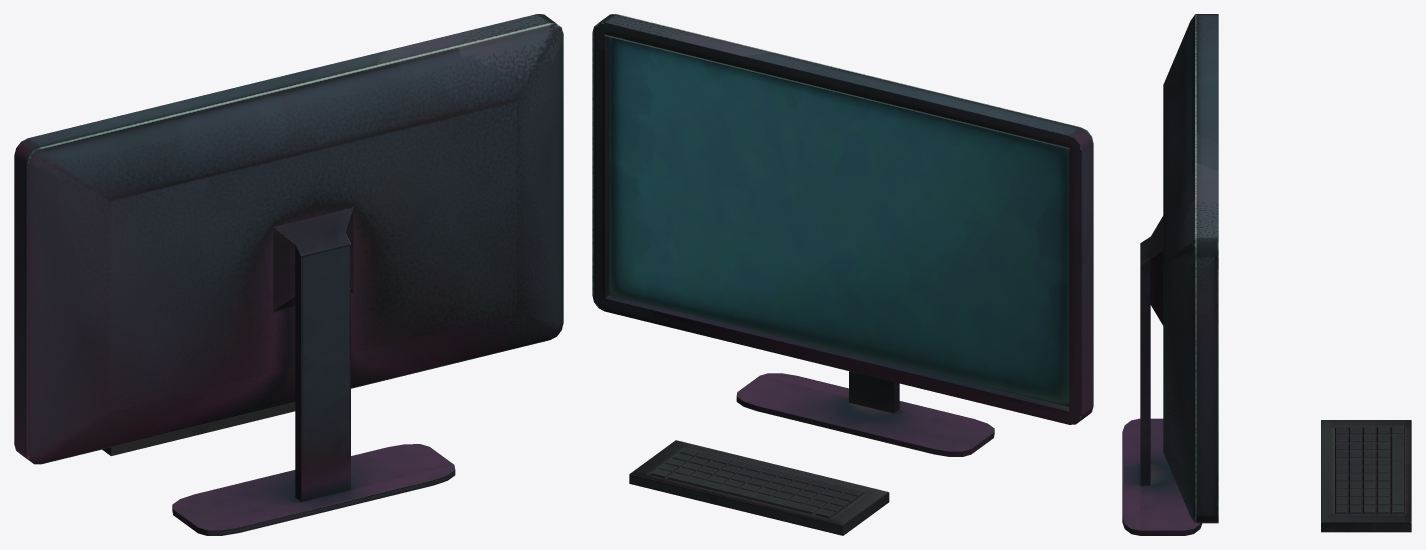
Rendered from pip2_pc_bm.fbx.
3 views of the same model, side by side, from view 1: azimuth 30°, elevation 25°; view 2: azimuth 150°, elevation 25°; view 3: azimuth 270°, elevation 25° (orthographic). The views are drawn at different scales.
Parts seen in each view (by area): view 1: pc; view 2: pc; view 3: pc.
Part boxes in pixels (x1,y1,x2,y2): pc: [14, 14, 563, 535]; pc: [592, 14, 1093, 535]; pc: [1122, 14, 1411, 535].
Bounding box in the file's own units: 59.52 × 41.76 × 31.
5 materials, 5 textured.
